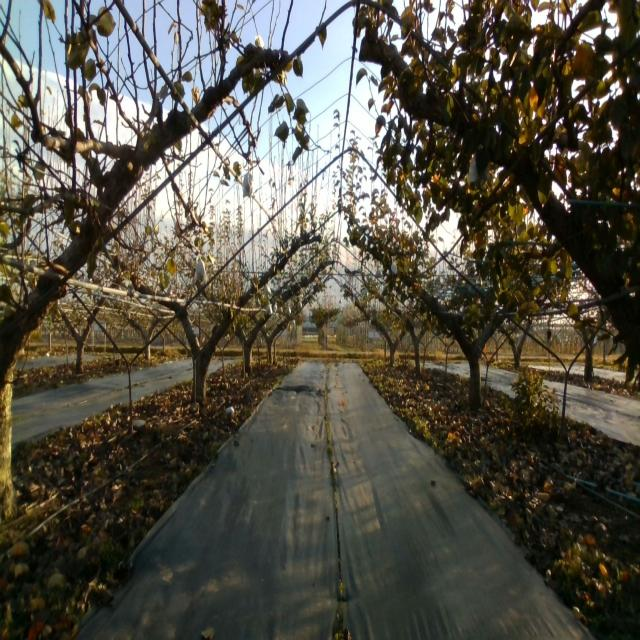pearbags: (193, 253, 207, 282), (243, 165, 254, 199)
